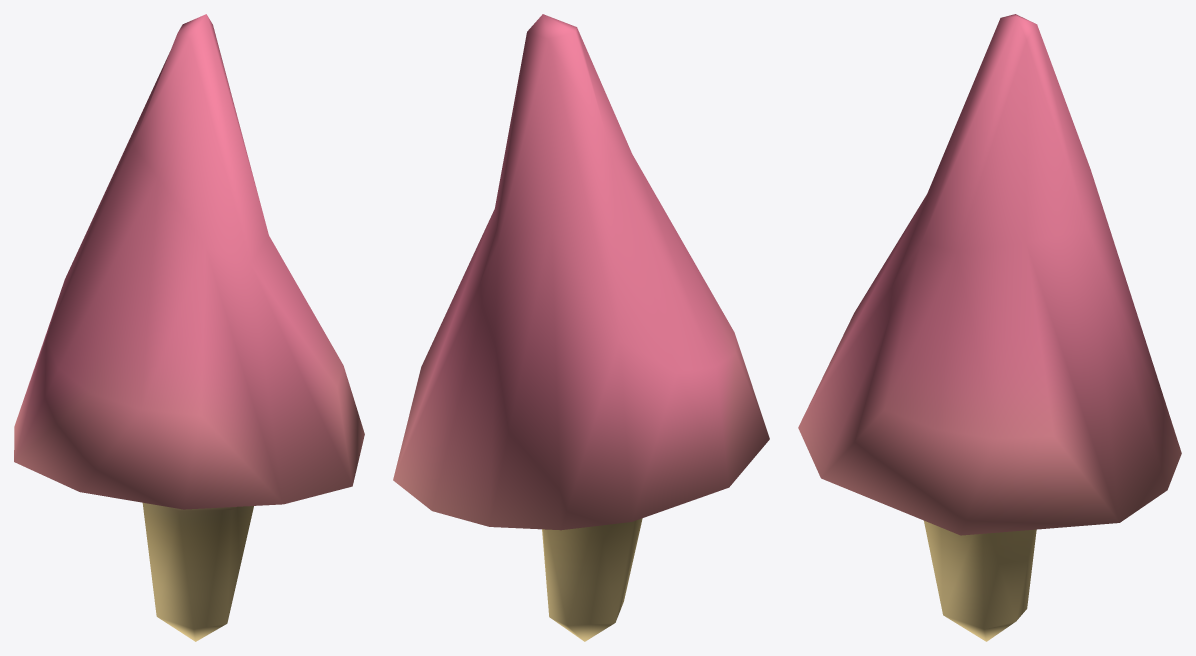
The model's file is mushroom_03.fbx.
3 renders of one model, left to right at view 1: azimuth 30°, elevation 25°; view 2: azimuth 150°, elevation 25°; view 3: azimuth 270°, elevation 25°, orthographic. The views are drawn at different scales.
Parts seen in each view (by area): view 1: mushroom_03; view 2: mushroom_03; view 3: mushroom_03.
Boxes of the visible parts, x1,y1,x2,y2 form: mushroom_03: [14, 14, 364, 641]; mushroom_03: [393, 14, 769, 641]; mushroom_03: [798, 14, 1181, 641].
Bounding box in the file's own units: 19.77 × 36.36 × 19.83.
